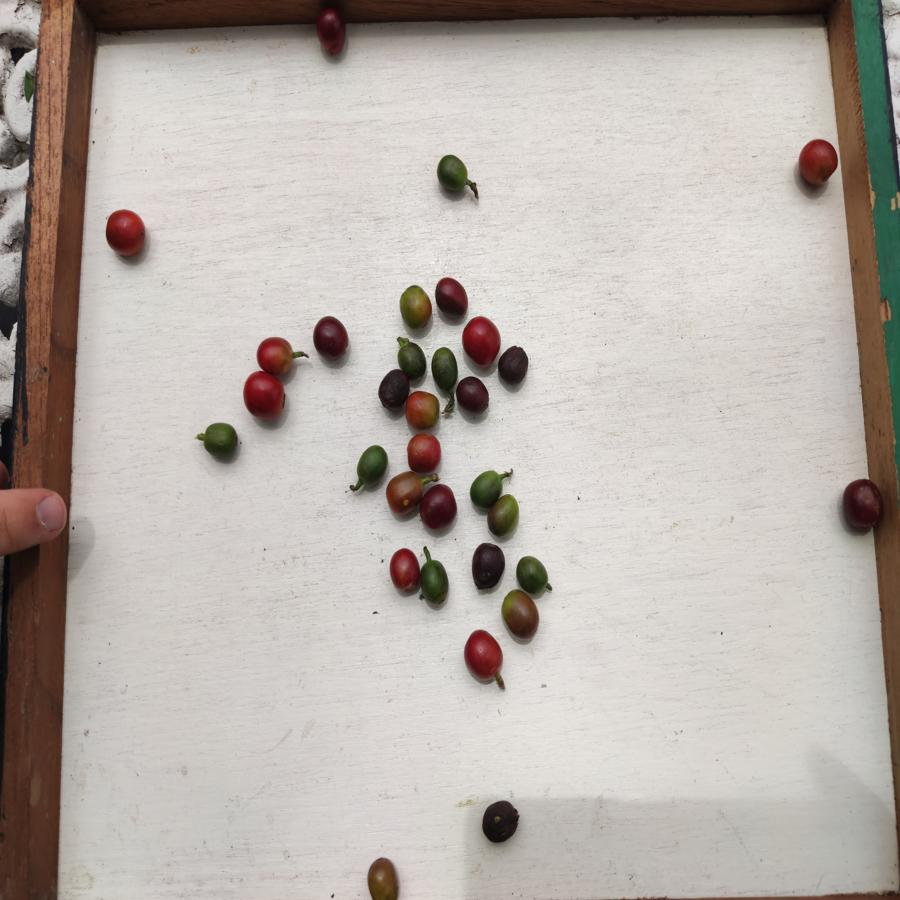Inmaduro: (515, 554, 556, 598), (435, 154, 474, 196), (417, 560, 451, 608), (203, 420, 241, 459), (430, 346, 459, 394), (469, 470, 504, 508), (395, 341, 429, 379), (356, 444, 386, 487)
Maduro: (103, 209, 146, 263), (462, 630, 505, 682), (240, 372, 285, 420), (798, 136, 839, 187), (460, 315, 503, 363), (253, 336, 297, 376), (406, 433, 441, 474), (389, 546, 420, 590), (406, 391, 439, 429)
Pinton: (499, 588, 541, 641), (398, 285, 433, 330), (367, 857, 403, 900), (387, 471, 421, 515), (488, 495, 518, 535)
Sobremaduro: (842, 479, 884, 537), (481, 800, 523, 844), (312, 315, 353, 358), (418, 483, 458, 527), (470, 542, 505, 592), (313, 9, 350, 55), (434, 275, 469, 320), (454, 375, 494, 413), (498, 344, 531, 385), (377, 371, 409, 411)
